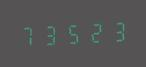five: (62, 20, 83, 46)
seven: (18, 22, 39, 48)
three: (40, 21, 61, 47), (106, 18, 127, 44)
two: (84, 19, 105, 45)
